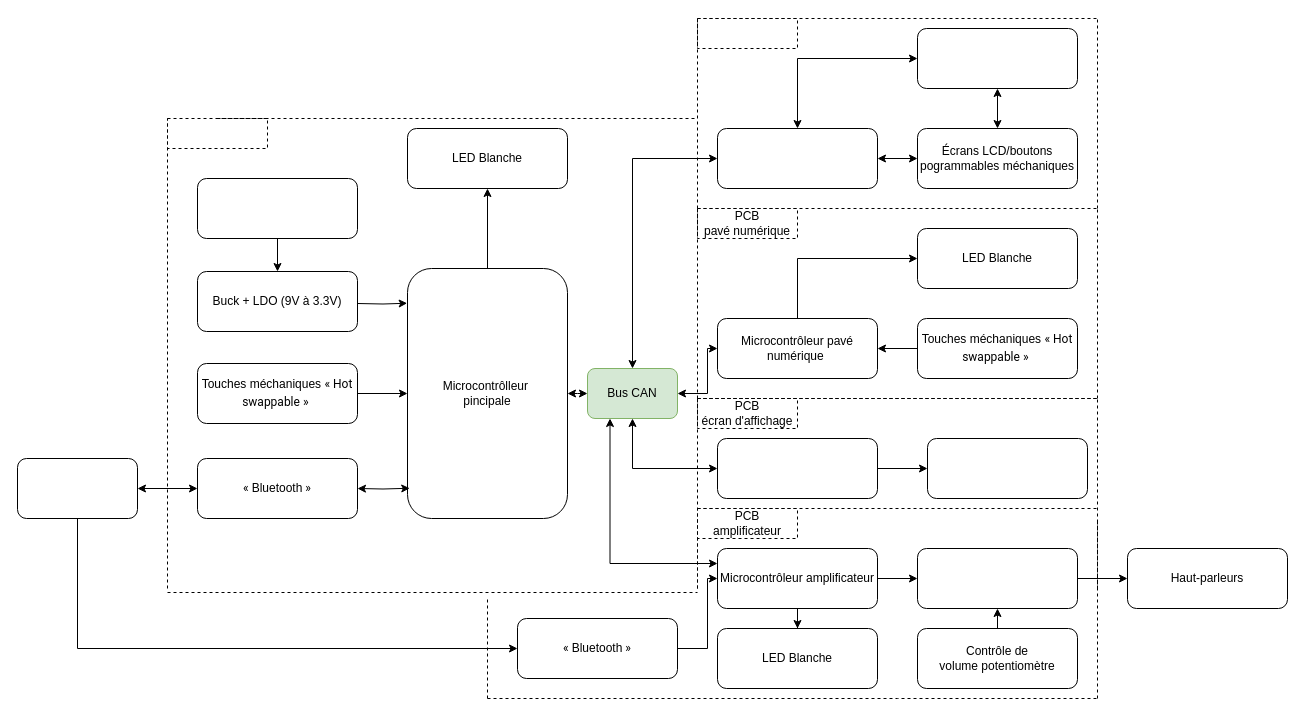
This 1305x717 diagram has some shape labels left out. Here are the shapes that lost their labels. From the top down, the centre of each, then its label:
the point at 747,33: PCB « Stream Deck »
the point at 997,58: Mémoire intern
the point at 217,133: PCB clavier principale
the point at 797,158: Microcontrôleur « Stream Deck »
the point at 277,208: USB PD
the point at 77,488: Ordinateur
the point at 797,468: Microcontrôleur écran
the point at 1007,468: Écran d'affichage LCD
the point at 997,578: Amplificateur
